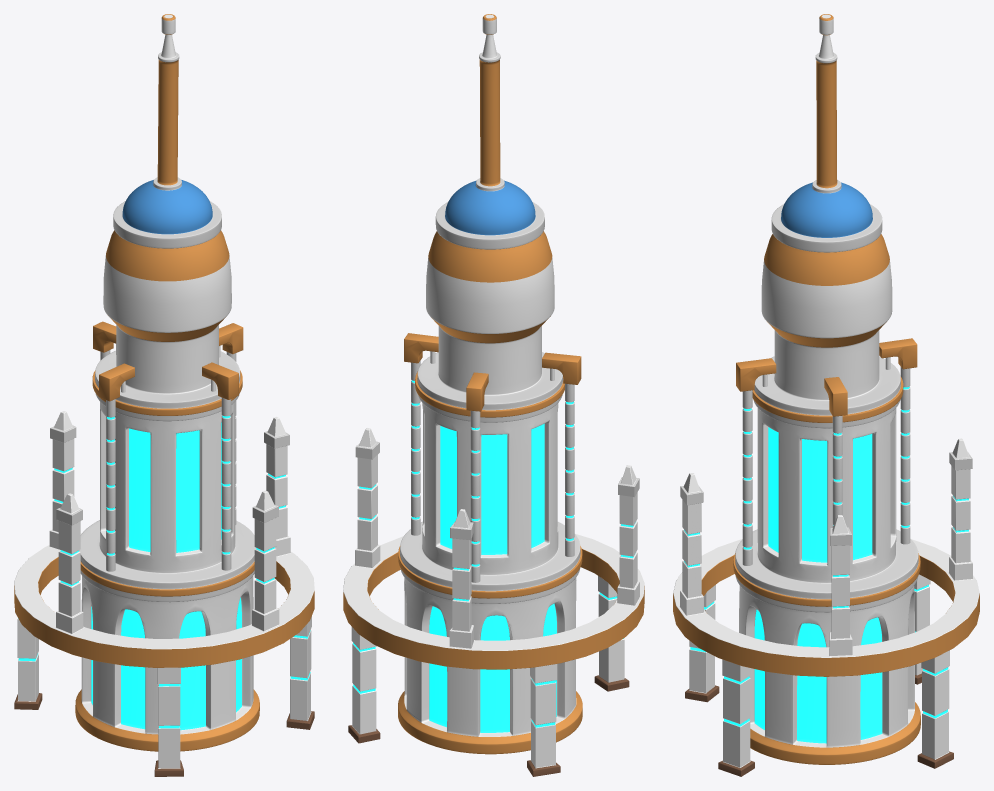
File: Gedung 3.fbx
3 views of the same model, side by side, from view 1: azimuth 30°, elevation 25°; view 2: azimuth 150°, elevation 25°; view 3: azimuth 270°, elevation 25° (orthographic).
Parts seen in each view (by area): view 1: Menara, Lingkarn menara, Tiang L2, Tiang L2.003, Tiang L2.001, Tiang L2.002; view 2: Menara, Lingkarn menara, Tiang L2.003, Tiang L2.002, Tiang L2.001; view 3: Menara, Lingkarn menara, Tiang L2, Tiang L2.002, Tiang L2.001.
Boxes of the visible parts, left/top/right/bottom form: Menara: left=75, top=14, right=259, bottom=751; Lingkarn menara: left=14, top=411, right=314, bottom=776; Tiang L2: left=202, top=362, right=238, bottom=570; Tiang L2.003: left=99, top=363, right=134, bottom=571; Tiang L2.001: left=219, top=323, right=243, bottom=524; Tiang L2.002: left=93, top=321, right=116, bottom=360; Menara: left=398, top=14, right=582, bottom=754; Lingkarn menara: left=343, top=428, right=644, bottom=776; Tiang L2.003: left=542, top=352, right=581, bottom=556; Tiang L2.002: left=466, top=372, right=488, bottom=582; Tiang L2.001: left=404, top=333, right=438, bottom=535; Menara: left=733, top=14, right=920, bottom=764; Lingkarn menara: left=673, top=438, right=979, bottom=776; Tiang L2: left=736, top=358, right=776, bottom=565; Tiang L2.002: left=879, top=338, right=917, bottom=544; Tiang L2.001: left=824, top=377, right=847, bottom=527.
Size of the model in its own units: 215 by 549 by 215.
